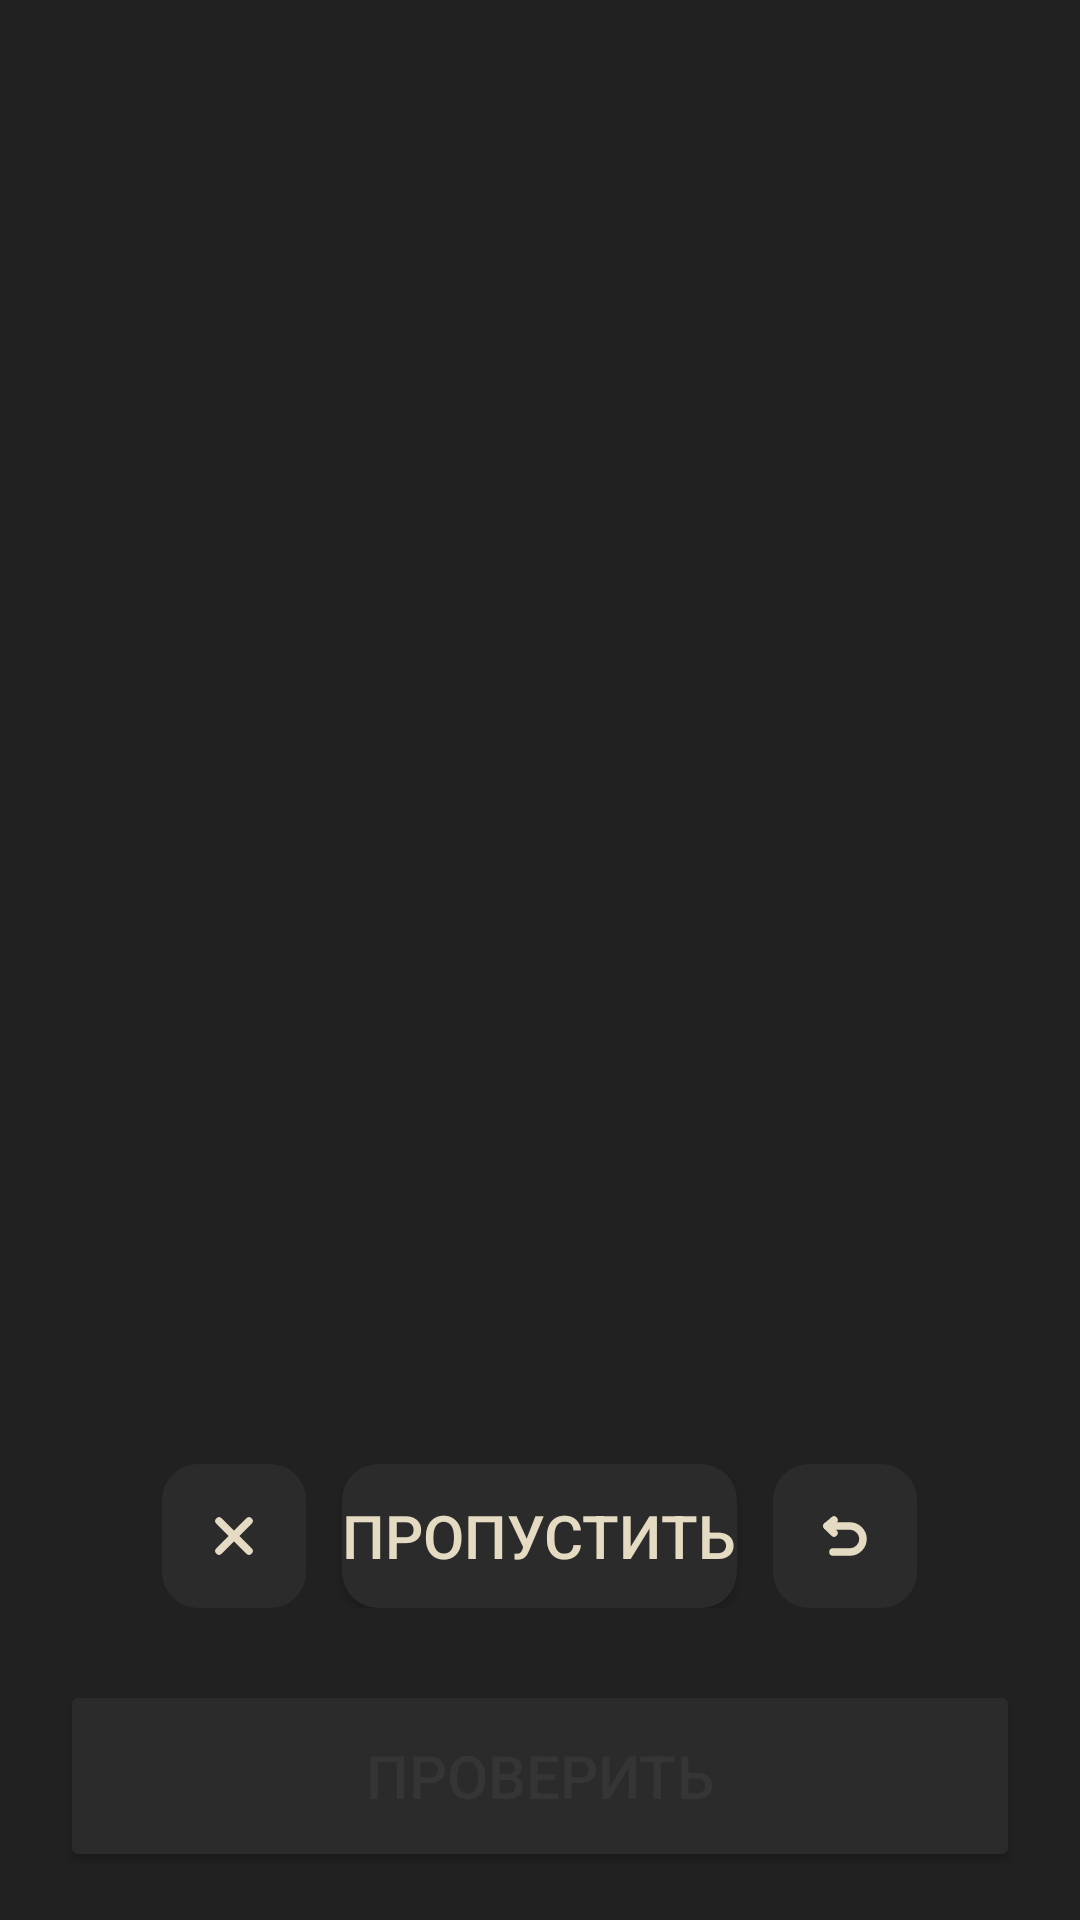

Icon click points for this 1080px x 1920px phone screenshot, format (x,y):
Удалить букву: (845,1536)
Удалить слово: (234,1536)
